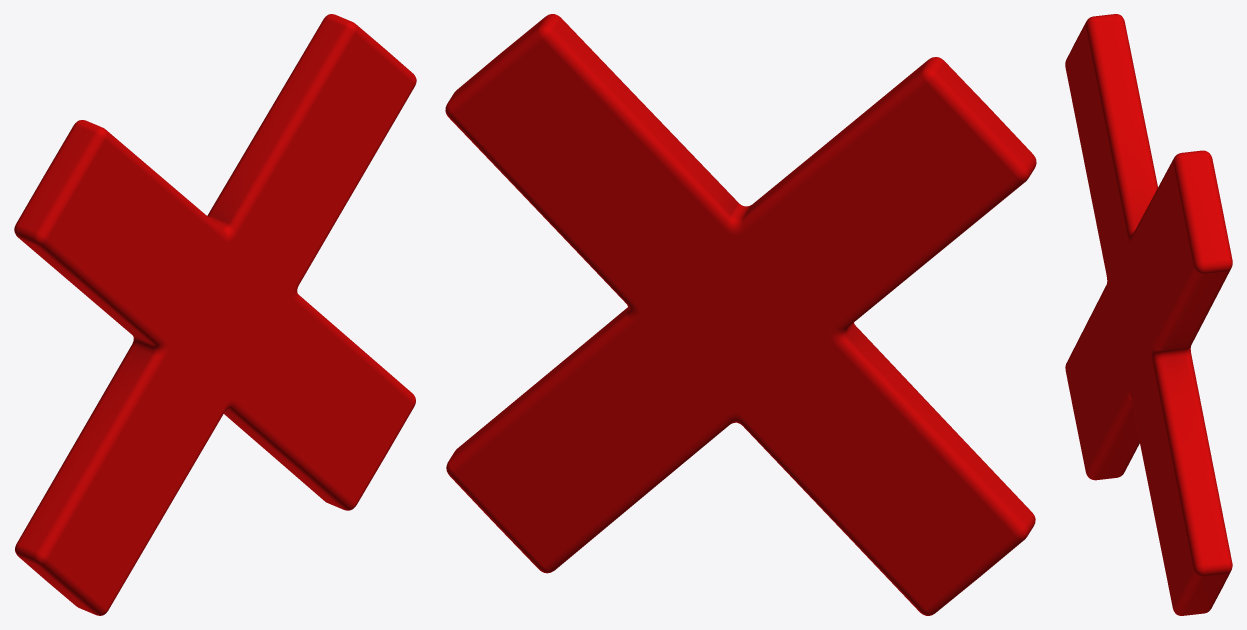
Rendered from fail.glb.
3 renders of one model, left to right at view 1: azimuth 30°, elevation 25°; view 2: azimuth 150°, elevation 25°; view 3: azimuth 270°, elevation 25°, orthographic. The views are drawn at different scales.
Visible parts, largest first — view 1: node_id30; view 2: node_id30; view 3: node_id30.
Part boxes in pixels (box(x1,y1,x2,y2)): node_id30: box(14, 14, 416, 615); node_id30: box(445, 14, 1036, 615); node_id30: box(1065, 14, 1232, 615).
Size of the model in its own units: 0.5006 by 0.5112 by 0.168.
Materials: 1 (1 with a texture image).
